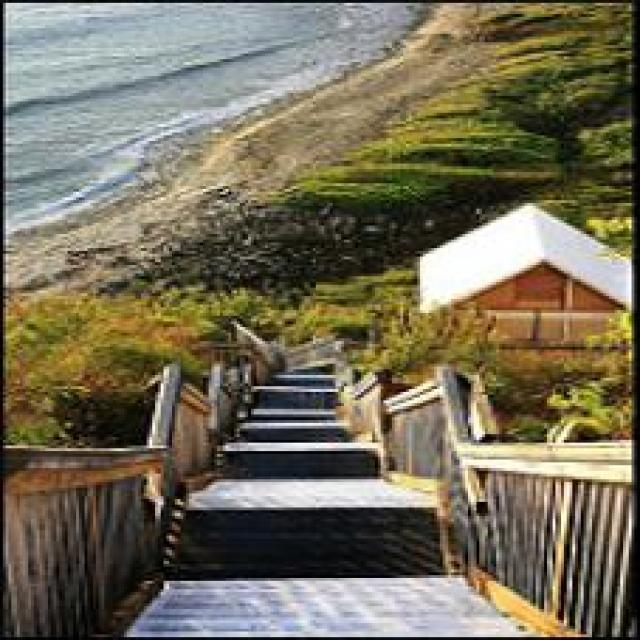stairs: (163, 321, 454, 578)
